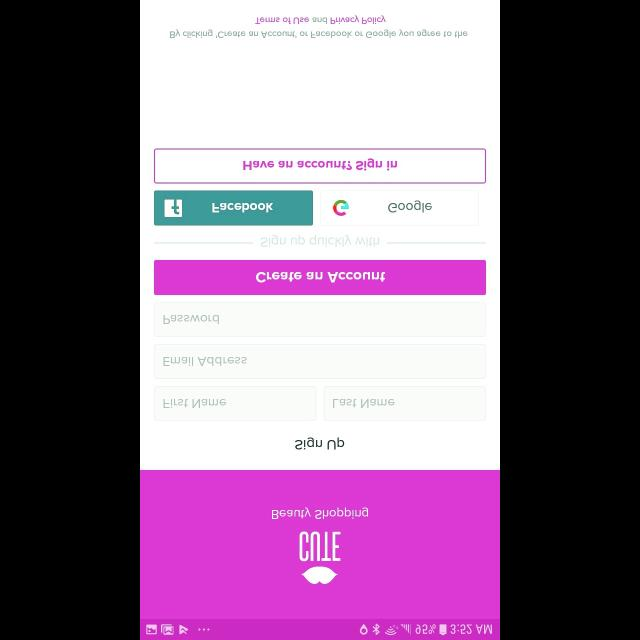image: (300, 566, 340, 584)
input: (154, 302, 486, 336), (154, 344, 486, 378), (155, 386, 317, 420), (324, 386, 486, 420)
text: (170, 16, 468, 38), (260, 235, 380, 248), (299, 530, 341, 562), (272, 507, 368, 519), (165, 356, 248, 366), (164, 398, 226, 408), (334, 398, 394, 408), (295, 438, 345, 450), (164, 314, 220, 324)
textbutton: (154, 148, 486, 184), (154, 260, 486, 294), (154, 190, 314, 226), (320, 190, 480, 226)
uppertaskbar: (140, 618, 500, 640)
